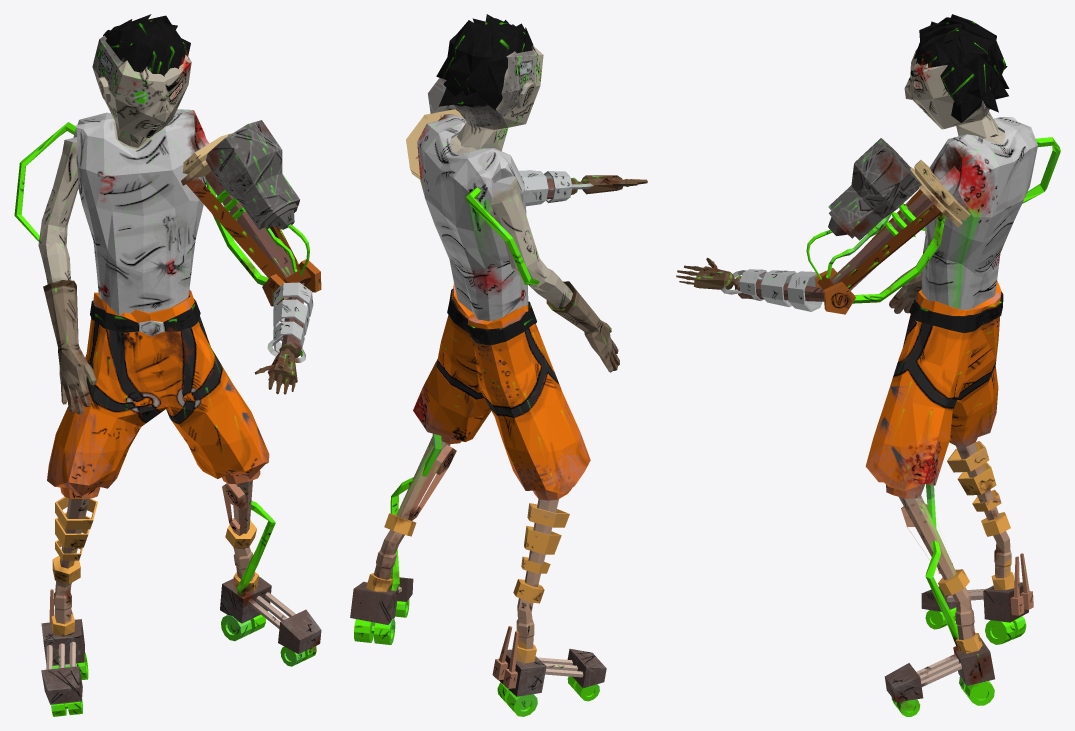
File: CyborgFINALAnimation_000136.obj
3 views of the same model, side by side, from view 1: azimuth 30°, elevation 25°; view 2: azimuth 150°, elevation 25°; view 3: azimuth 270°, elevation 25° (orthographic). The views are drawn at different scales.
Visible parts, largest first — view 1: CyborgMesh_Cube.002; view 2: CyborgMesh_Cube.002; view 3: CyborgMesh_Cube.002.
Part boxes in pixels (<box>): CyborgMesh_Cube.002: <box>14,14,321,716</box>; CyborgMesh_Cube.002: <box>350,14,647,716</box>; CyborgMesh_Cube.002: <box>676,14,1060,716</box>.
Size of the model in its own units: 3.76 by 9.64 by 5.19.
